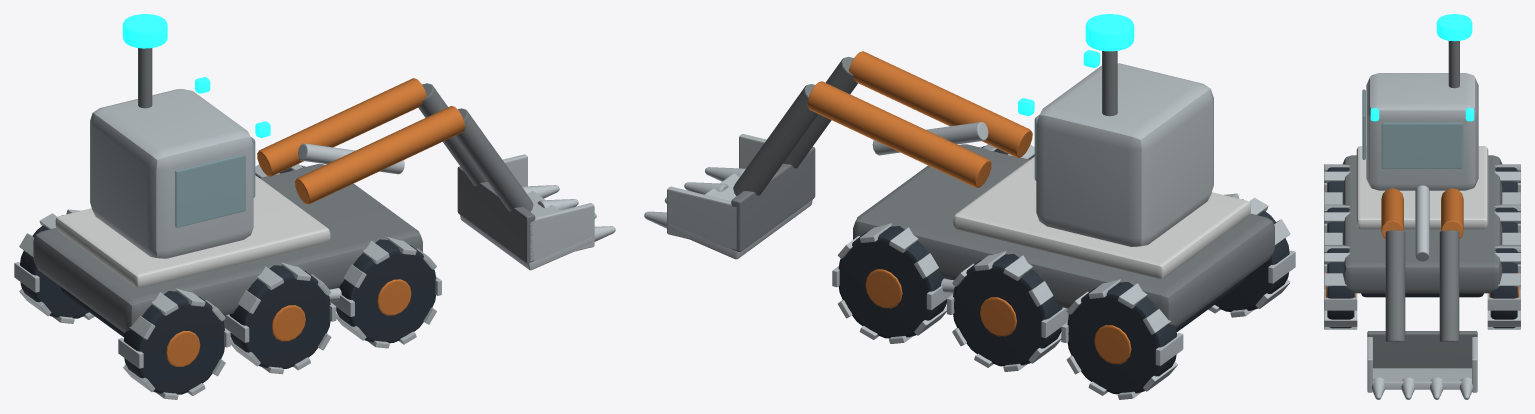
The model's file is excavator.glb.
3 views of the same model, side by side, from view 1: azimuth 30°, elevation 25°; view 2: azimuth 150°, elevation 25°; view 3: azimuth 270°, elevation 25° (orthographic). The views are drawn at different scales.
Parts seen in each view (by area): view 1: RenderBatch_Excavator_EXC_Body, RenderBatch_Excavator_EXC_DarkService, RenderBatch_Excavator_EXC_Frame, RenderBatch_Excavator_BoomPivot_EXC_SafetyOrange, Excavator_Deck, RenderBatch_Excavator_BucketPivot_EXC_Frame, RenderBatch_Excavator_BucketPivot_EXC_Body, Excavator_CabWindowSide, RenderBatch_Excavator_EXC_SafetyOrange, RenderBatch_Excavator_EXC_StatusLight, Excavator_HydraulicRam; view 2: RenderBatch_Excavator_EXC_Body, RenderBatch_Excavator_EXC_DarkService, RenderBatch_Excavator_EXC_Frame, RenderBatch_Excavator_BoomPivot_EXC_SafetyOrange, Excavator_Deck, RenderBatch_Excavator_BucketPivot_EXC_Frame, RenderBatch_Excavator_BucketPivot_EXC_Body, RenderBatch_Excavator_EXC_SafetyOrange, RenderBatch_Excavator_EXC_StatusLight, Excavator_HydraulicRam; view 3: RenderBatch_Excavator_EXC_Body, RenderBatch_Excavator_EXC_Frame, RenderBatch_Excavator_BucketPivot_EXC_Frame, Excavator_Deck, Excavator_CabWindowFront, RenderBatch_Excavator_EXC_DarkService, RenderBatch_Excavator_BucketPivot_EXC_Body, RenderBatch_Excavator_BoomPivot_EXC_SafetyOrange, RenderBatch_Excavator_EXC_StatusLight, Excavator_HydraulicRam, Excavator_CabWindowSide.
Part boxes in pixels (x1=…): RenderBatch_Excavator_EXC_Body: x1=14, y1=89, x2=441, y2=399; RenderBatch_Excavator_EXC_DarkService: x1=20, y1=165, x2=436, y2=394; RenderBatch_Excavator_EXC_Frame: x1=33, y1=48, x2=422, y2=332; RenderBatch_Excavator_BoomPivot_EXC_SafetyOrange: x1=257, y1=78, x2=464, y2=204; Excavator_Deck: x1=55, y1=175, x2=330, y2=287; RenderBatch_Excavator_BucketPivot_EXC_Frame: x1=418, y1=83, x2=535, y2=263; RenderBatch_Excavator_BucketPivot_EXC_Body: x1=460, y1=154, x2=615, y2=270; Excavator_CabWindowSide: x1=175, y1=154, x2=245, y2=227; RenderBatch_Excavator_EXC_SafetyOrange: x1=166, y1=279, x2=411, y2=366; RenderBatch_Excavator_EXC_StatusLight: x1=122, y1=14, x2=270, y2=137; Excavator_HydraulicRam: x1=298, y1=143, x2=404, y2=174; RenderBatch_Excavator_EXC_Body: x1=832, y1=63, x2=1295, y2=399; RenderBatch_Excavator_EXC_DarkService: x1=838, y1=146, x2=1289, y2=394; RenderBatch_Excavator_EXC_Frame: x1=853, y1=51, x2=1274, y2=327; RenderBatch_Excavator_BoomPivot_EXC_SafetyOrange: x1=807, y1=51, x2=1032, y2=187; Excavator_Deck: x1=953, y1=156, x2=1250, y2=278; RenderBatch_Excavator_BucketPivot_EXC_Frame: x1=731, y1=56, x2=857, y2=251; RenderBatch_Excavator_BucketPivot_EXC_Body: x1=644, y1=134, x2=812, y2=259; RenderBatch_Excavator_EXC_SafetyOrange: x1=865, y1=269, x2=1131, y2=364; RenderBatch_Excavator_EXC_StatusLight: x1=1018, y1=14, x2=1134, y2=115; Excavator_HydraulicRam: x1=872, y1=122, x2=988, y2=155; RenderBatch_Excavator_EXC_Body: x1=1324, y1=73, x2=1520, y2=329; RenderBatch_Excavator_EXC_Frame: x1=1342, y1=41, x2=1502, y2=293; RenderBatch_Excavator_BucketPivot_EXC_Frame: x1=1367, y1=230, x2=1477, y2=368; Excavator_Deck: x1=1356, y1=146, x2=1488, y2=229; Excavator_CabWindowFront: x1=1381, y1=122, x2=1463, y2=168; RenderBatch_Excavator_EXC_DarkService: x1=1327, y1=167, x2=1517, y2=328; RenderBatch_Excavator_BucketPivot_EXC_Body: x1=1367, y1=337, x2=1477, y2=399; RenderBatch_Excavator_BoomPivot_EXC_SafetyOrange: x1=1381, y1=188, x2=1463, y2=238; RenderBatch_Excavator_EXC_StatusLight: x1=1370, y1=14, x2=1474, y2=121; Excavator_HydraulicRam: x1=1415, y1=185, x2=1429, y2=261; Excavator_CabWindowSide: x1=1362, y1=89, x2=1365, y2=159.
Size of the model in its own units: 6.53 by 3.72 by 2.77.
